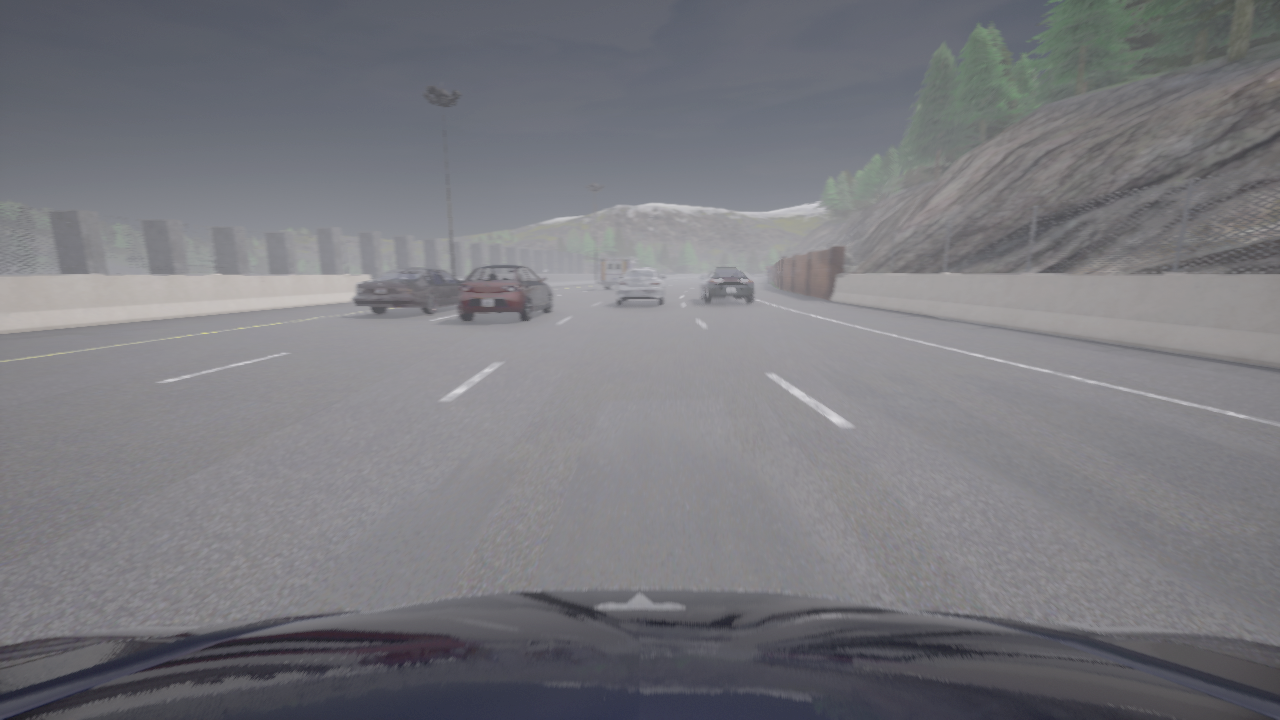cyclist: (0, 588, 1279, 719), (458, 264, 553, 321), (352, 268, 461, 313), (700, 266, 755, 303), (616, 268, 666, 305), (598, 256, 637, 289)
